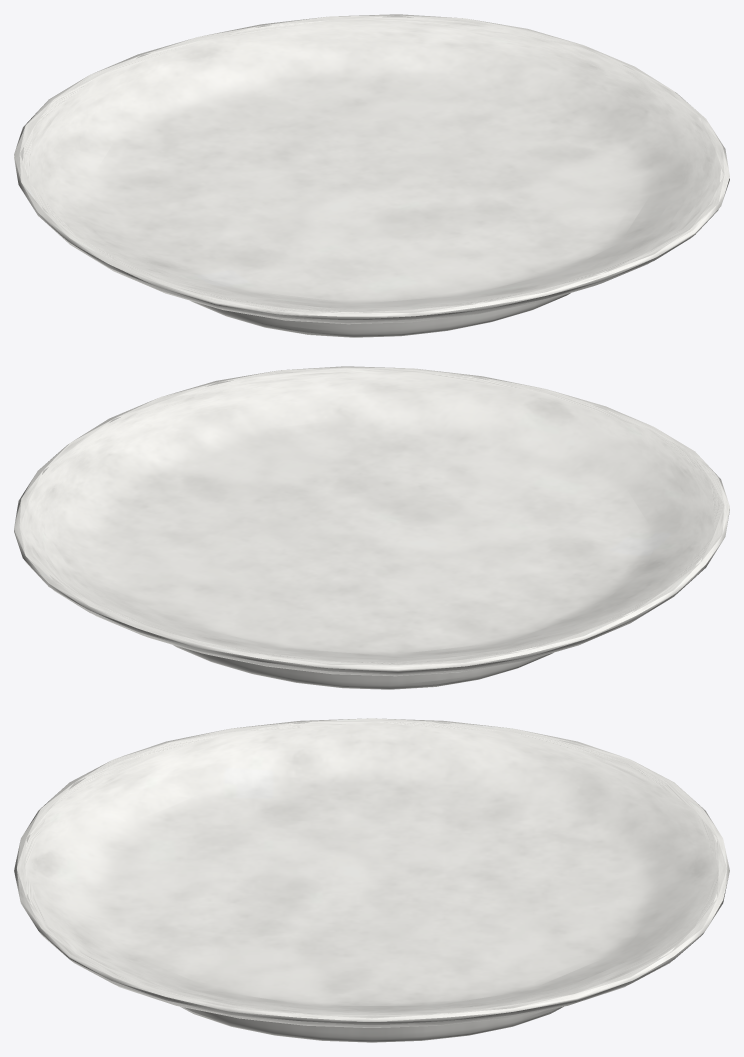
The model's file is จานเหล็ก.fbx.
3 renders of one model, top to bottom at view 1: azimuth 30°, elevation 25°; view 2: azimuth 150°, elevation 25°; view 3: azimuth 270°, elevation 25°, orthographic.
Parts seen in each view (by area): view 1: Cube; view 2: Cube; view 3: Cube.
Boxes of the visible parts, x1,y1,x2,y2 form: Cube: (14, 14, 729, 337); Cube: (14, 366, 729, 689); Cube: (14, 718, 729, 1042).
Size of the model in its own units: 56.36 by 6.28 by 56.36.
